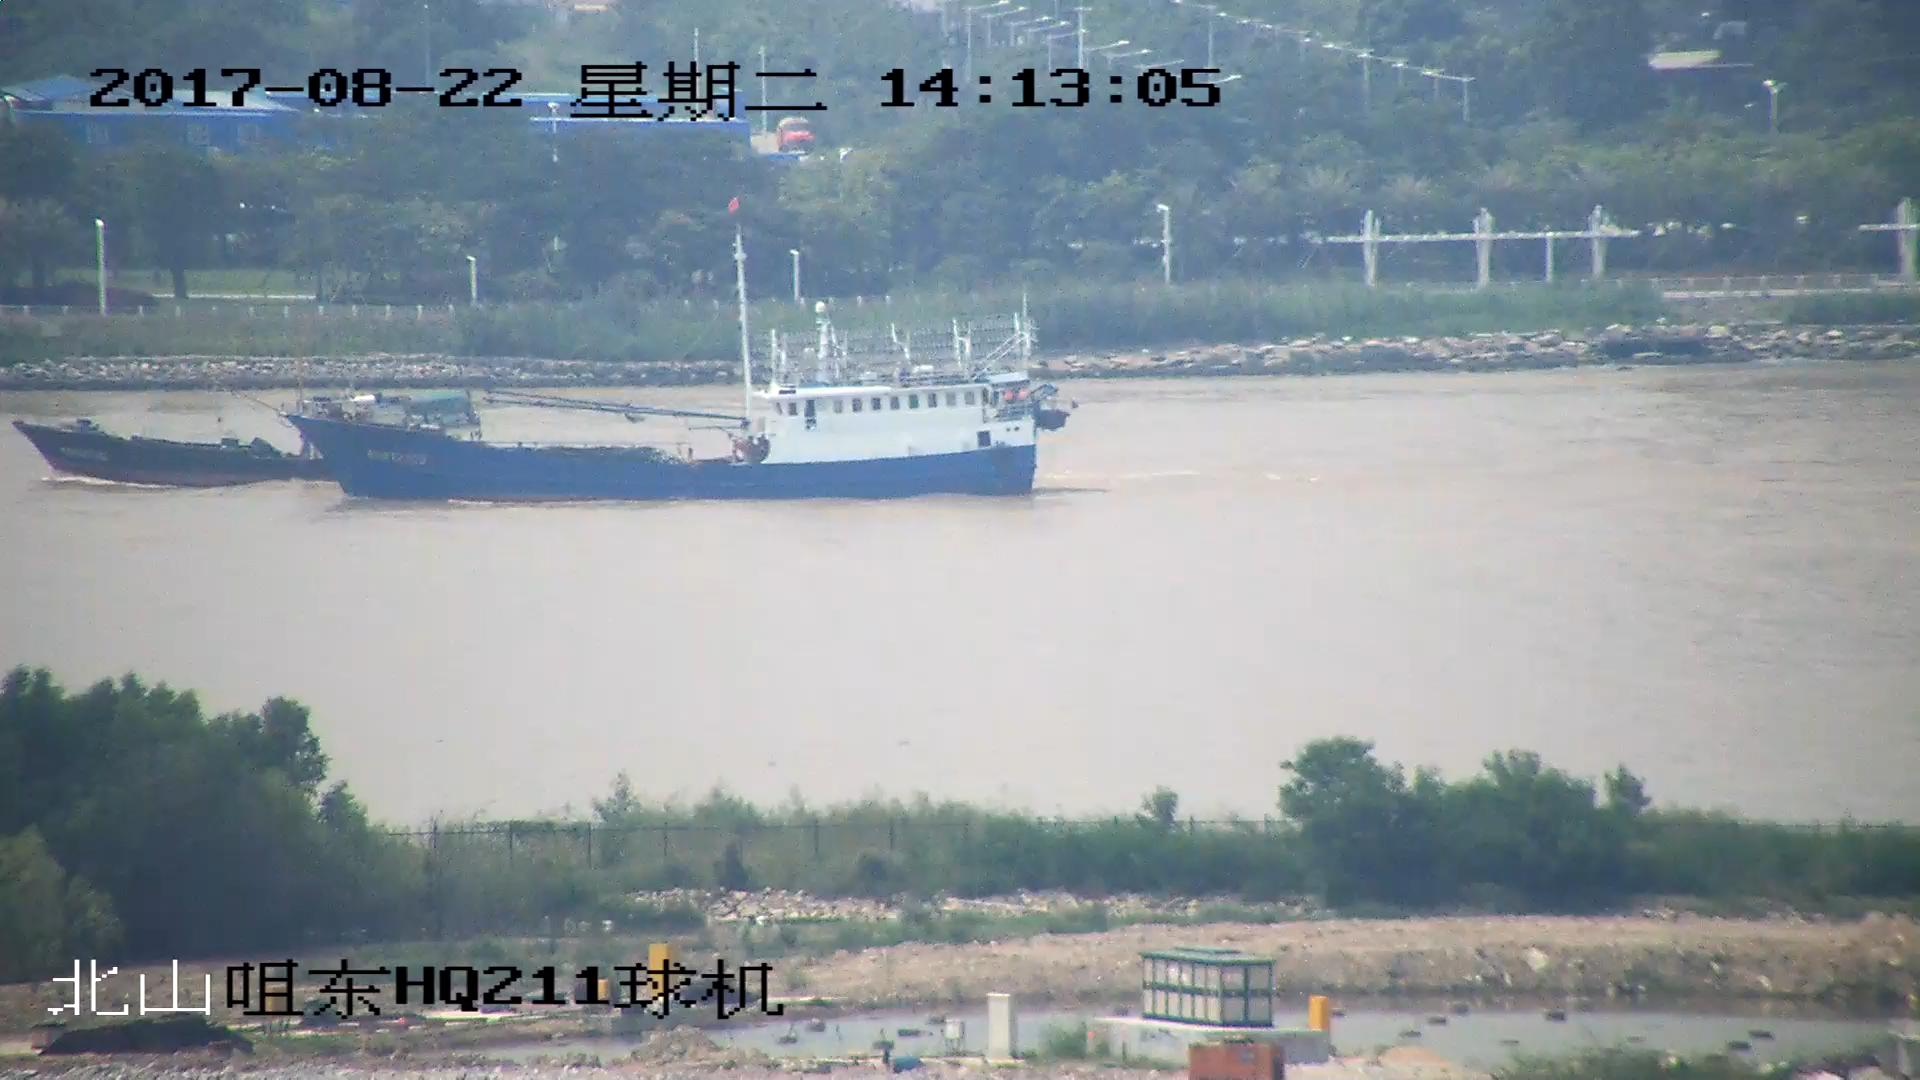fishing boat: (284, 208, 1078, 503), (19, 386, 485, 486)
